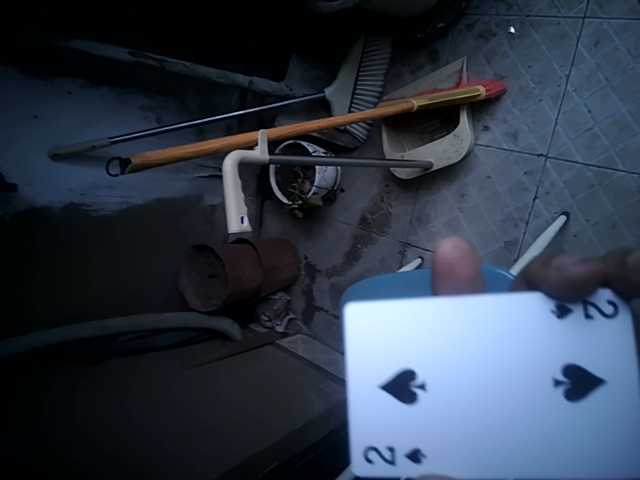ht 2: (331, 288, 637, 477)
